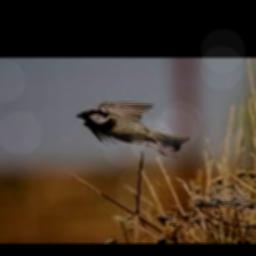Sparrow: (76, 100, 190, 157)
